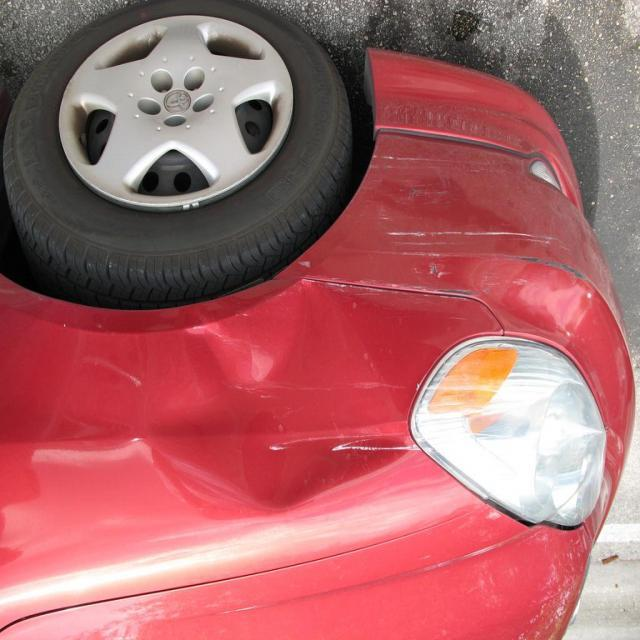dent: (125, 283, 441, 537)
